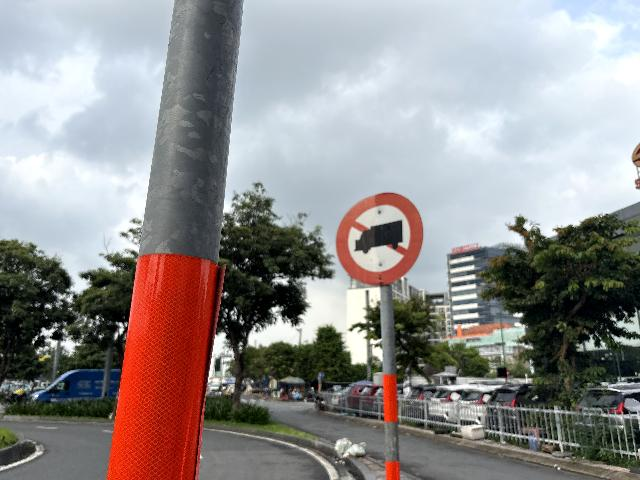cam-xe-tai: (337, 193, 424, 286)
